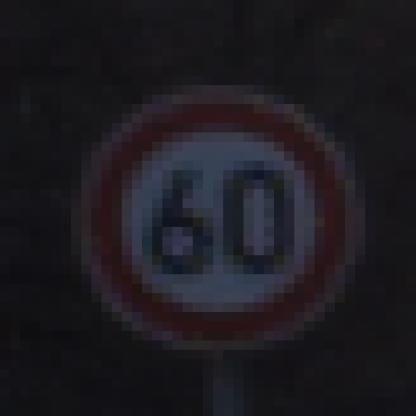Speed Limit 60: (92, 95, 344, 341)
